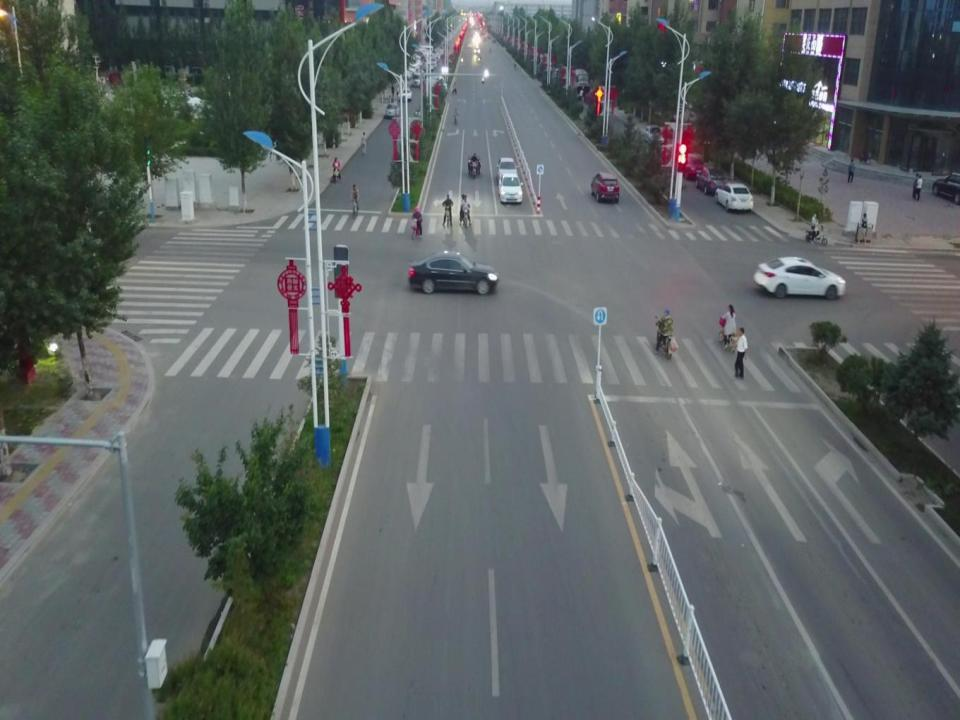car: (405, 252, 499, 296), (753, 258, 847, 298), (716, 184, 753, 214), (588, 172, 620, 204), (933, 171, 960, 206), (695, 166, 727, 195), (495, 156, 519, 189), (498, 173, 522, 205), (678, 152, 704, 179), (643, 124, 664, 144), (385, 104, 400, 118), (399, 88, 411, 102)
